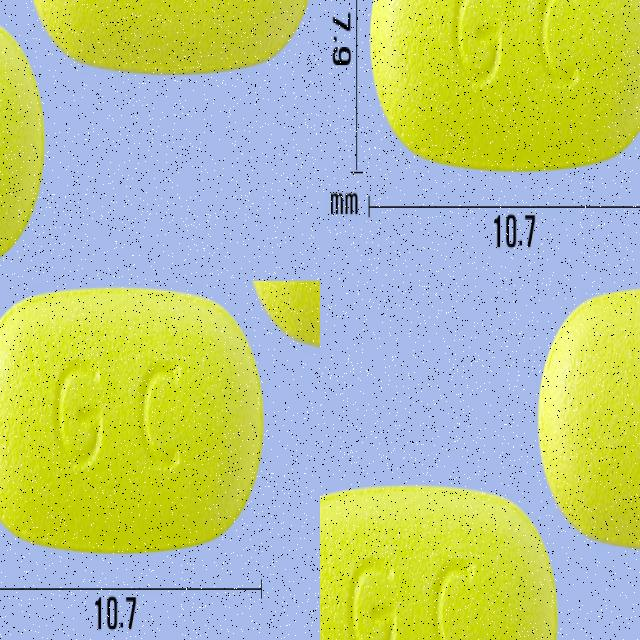Amocla 625mg: (365, 0, 640, 281)
Clarimicin: (320, 473, 558, 640), (537, 281, 640, 554)
Clarosin: (0, 281, 259, 555)
